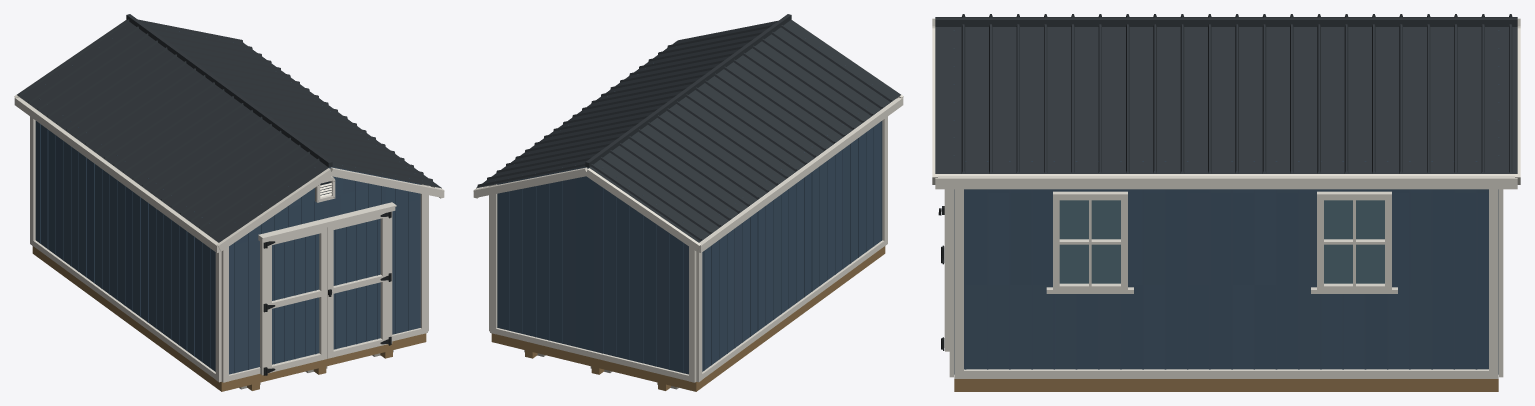
File: 01-basic-utility.glb
The picture shows the model from 3 angles, left to right: view 1: azimuth 30°, elevation 25°; view 2: azimuth 150°, elevation 25°; view 3: azimuth 270°, elevation 25°; orthographic projection. The views are drawn at different scales.
Visible parts, largest first — view 1: Main roof, left wall, front wall double, front wall, Floor platform and skids, front wall arched vent; view 2: Main roof, rear wall, left wall, Floor platform and skids; view 3: Main roof, right wall, right wall window, Floor platform and skids, front wall, rear wall, front wall double.
Part boxes in pixels (box(x1,y1,x2,y2)): Main roof: box(14, 14, 444, 252); left wall: box(30, 116, 221, 382); front wall double: box(258, 202, 396, 375); front wall: box(221, 165, 427, 382); Floor platform and skids: box(32, 246, 426, 391); front wall arched vent: box(315, 176, 335, 202); Main roof: box(473, 14, 903, 252); rear wall: box(490, 165, 696, 382); left wall: box(696, 96, 887, 382); Floor platform and skids: box(491, 246, 885, 391); Main roof: box(932, 14, 1520, 189); right wall: box(954, 161, 1498, 378); right wall window: box(1046, 191, 1397, 293); Floor platform and skids: box(954, 379, 1498, 391); front wall: box(949, 30, 954, 377); rear wall: box(1498, 30, 1503, 377); front wall double: box(938, 189, 949, 351).
Bounding box in the file's own units: 3.39 × 3.1 × 5.27.
